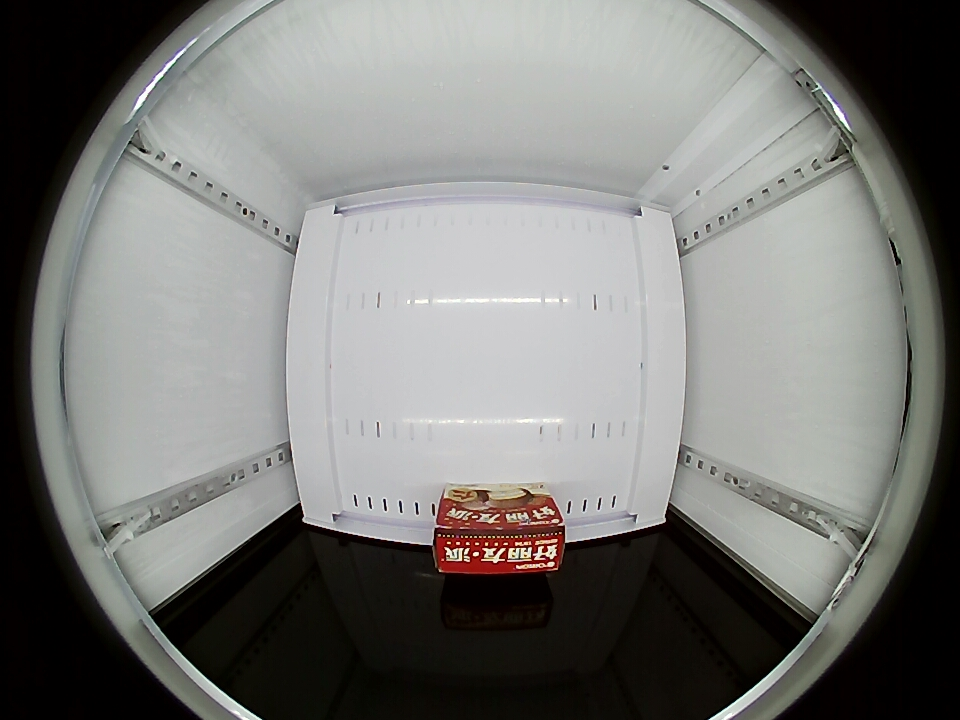haoliyou: (433, 490, 566, 576)
